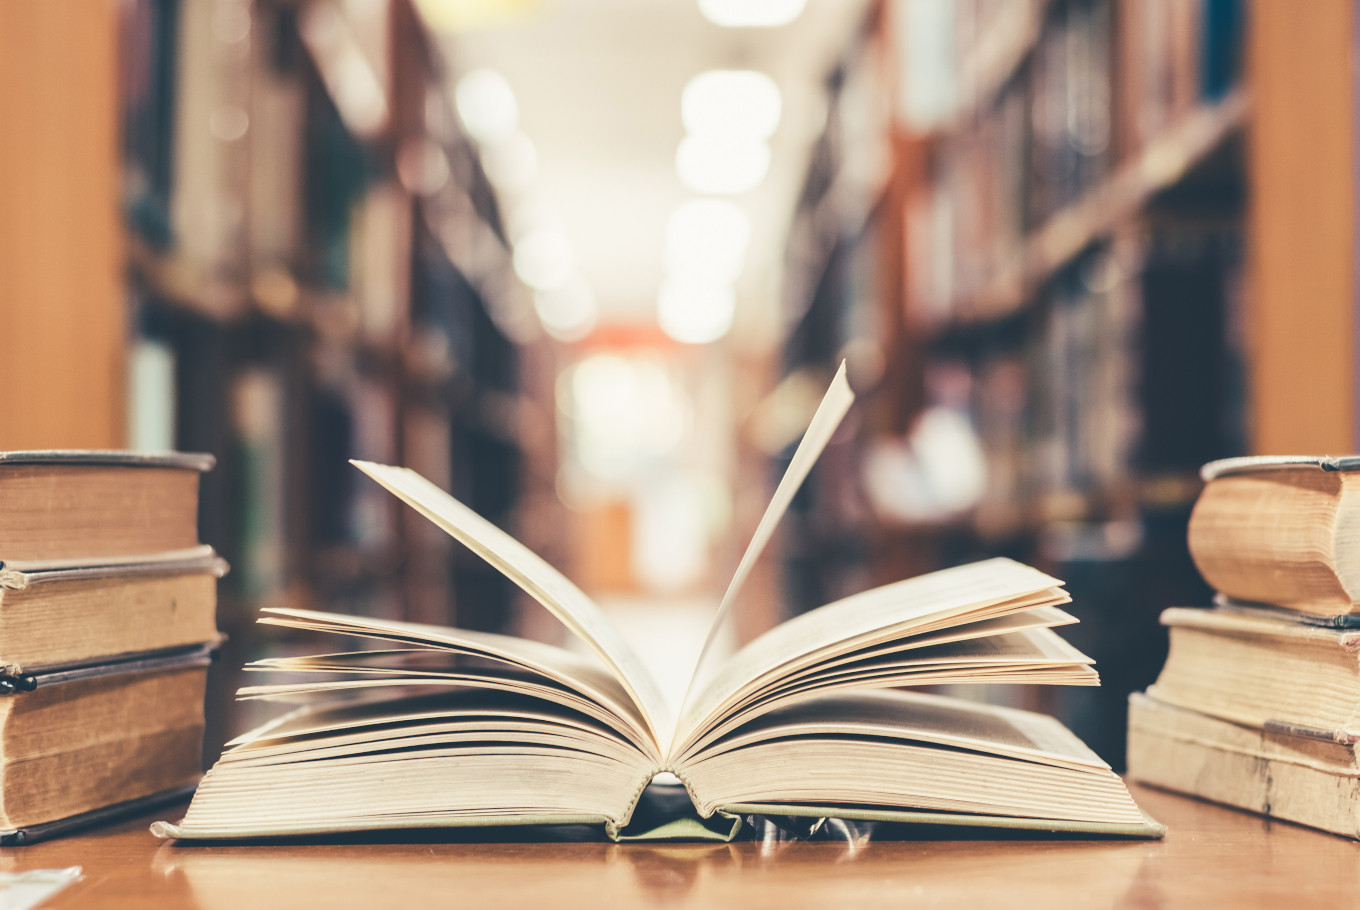buku: (146, 370, 1179, 849), (1, 436, 218, 859), (1132, 446, 1360, 829)
